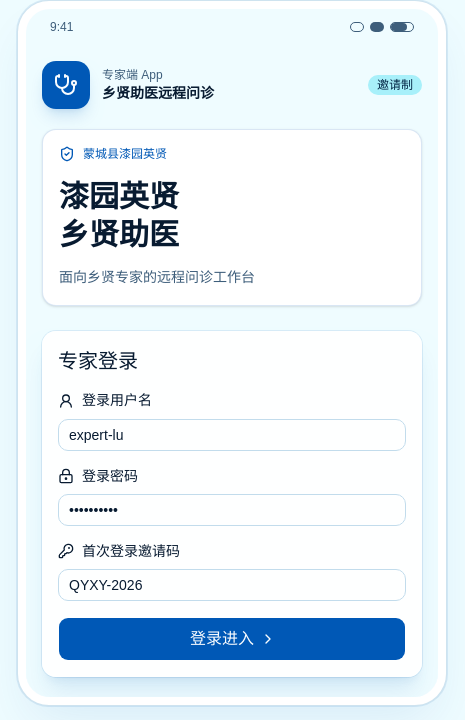
Scenario: ExpertView consultation detail › starts on the expert app login homepage and enters the workbench
This screenshot has width=465, height=720.
Expected: the heading is shown, [59,180,179,250]
Expected: the field labelled "登录用户名" holds "expert-lu", [58,418,406,450]
Click the button with test id "expert-login-submit".
click(232, 639)  # box [58,617,406,661]
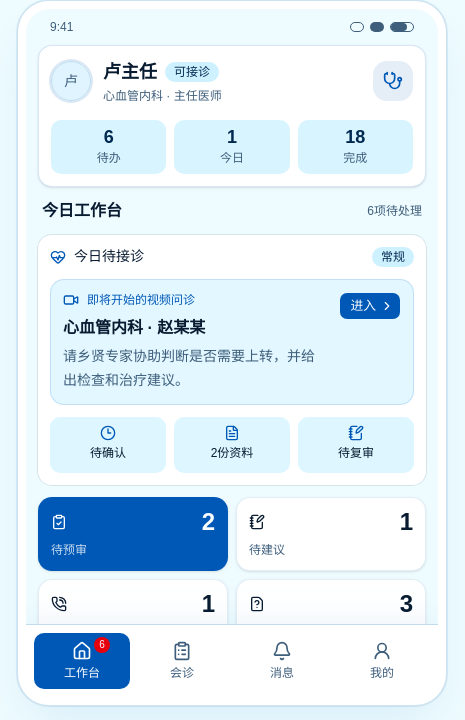
Expected: the heading "今日工作台" is shown, [42,199,122,223]
